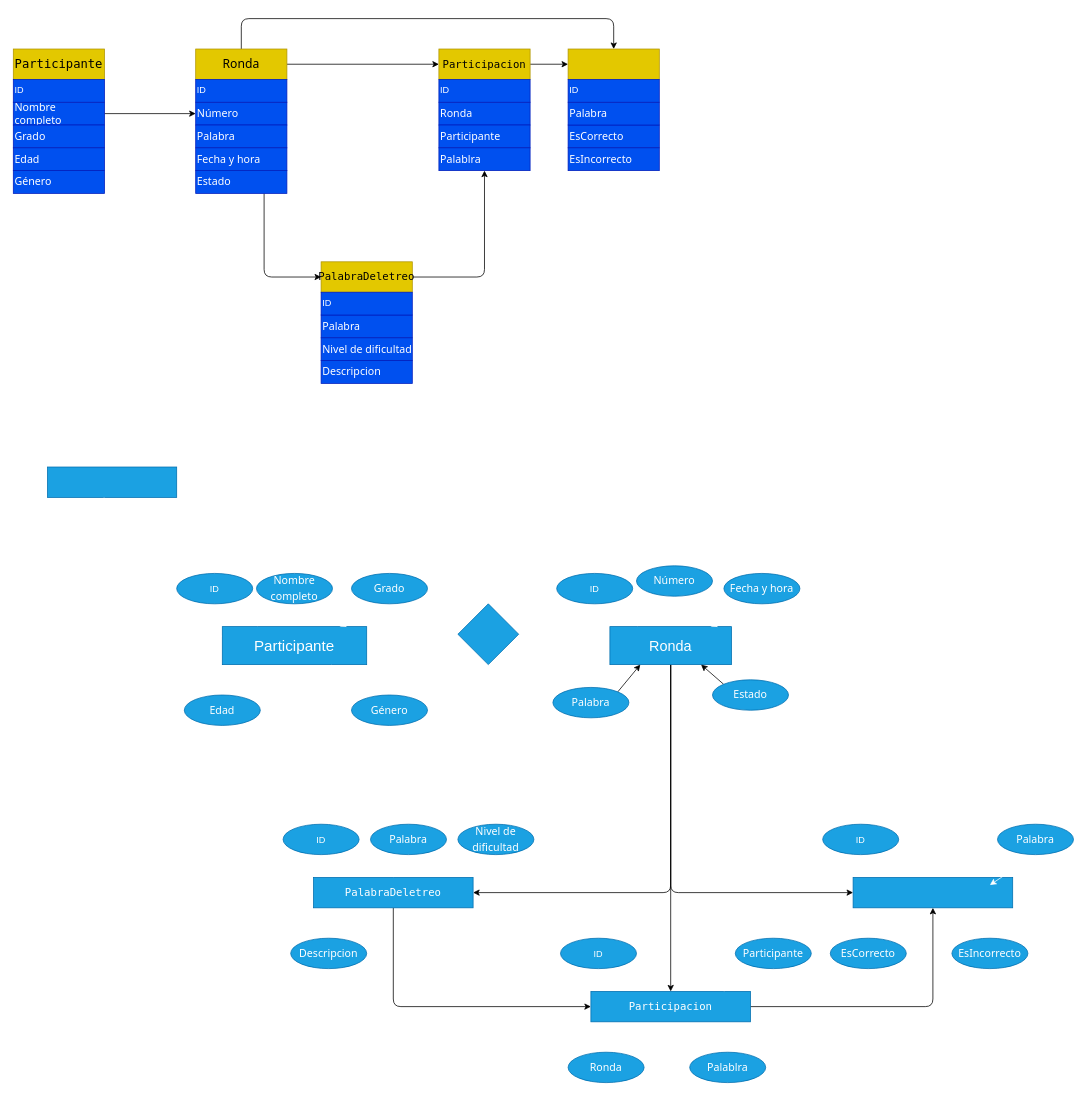
The diagram is 1087 pixels wide and 1102 high, and some of its shapes have lost their labels. The shapes that lost their labels are listed below. From the top down, each one's centre as x and y in pixels, then its label:
At (x=613, y=63): "Resultado".
At (x=112, y=481): "Deletreo".
At (x=488, y=634): "N:1".
At (x=932, y=892): "Instrutores".
